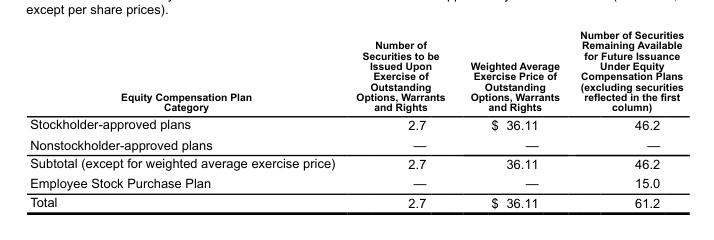table: (29, 28, 683, 209)
table column: (29, 28, 344, 209), (569, 28, 683, 209), (344, 28, 457, 209), (457, 28, 569, 209)
table column header: (29, 28, 683, 114)
table row: (29, 28, 683, 114), (29, 114, 683, 134), (29, 153, 683, 173), (29, 134, 683, 153), (29, 173, 683, 192), (29, 192, 683, 209)
